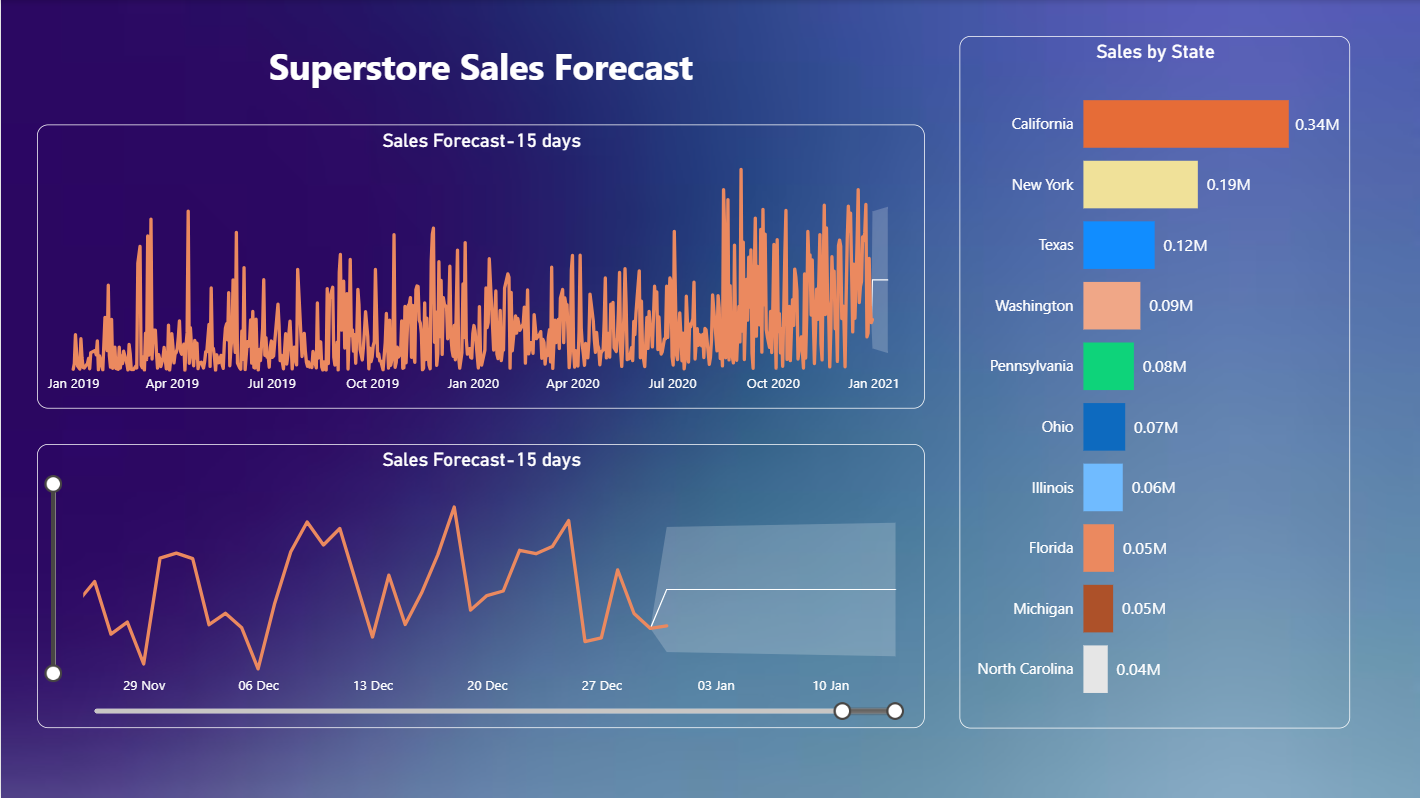

The dashboard page shown, as its layout file describes it:
{"tool":"powerbi","page":{"name":"Page 2","canvas":[1280,720],"ordinal":1},"visuals":[{"type":"lineChart","title":"Sales Forecast-15 days","fields":{"Category":["SuperStore_Sales_Dataset.Order Date"],"Y":["Sum(SuperStore_Sales_Dataset.Sales)"]},"box":[32,112,800,256],"z":0},{"type":"lineChart","title":"Sales Forecast-15 days","fields":{"Category":["SuperStore_Sales_Dataset.Order Date"],"Y":["Sum(SuperStore_Sales_Dataset.Sales)"]},"box":[32,400,800,256],"z":1000},{"type":"barChart","title":"Sales by State","fields":{"Y":["Sum(Table.Total Sales)"],"Category":["Table.State"]},"box":[864,32,352,624],"z":2000},{"type":"textbox","box":[32,32,800,64],"z":3000}]}

Visuals, with their boxes in screenshot pixels (x1, y1, x2, y2), scaled from the page's 1280x720 canvas onto the 1420x798 screenshot:
"Sales Forecast-15 days" lineChart: [36, 124, 923, 408]
"Sales Forecast-15 days" lineChart: [36, 443, 923, 727]
"Sales by State" barChart: [958, 35, 1349, 727]
textbox: [36, 35, 923, 106]
